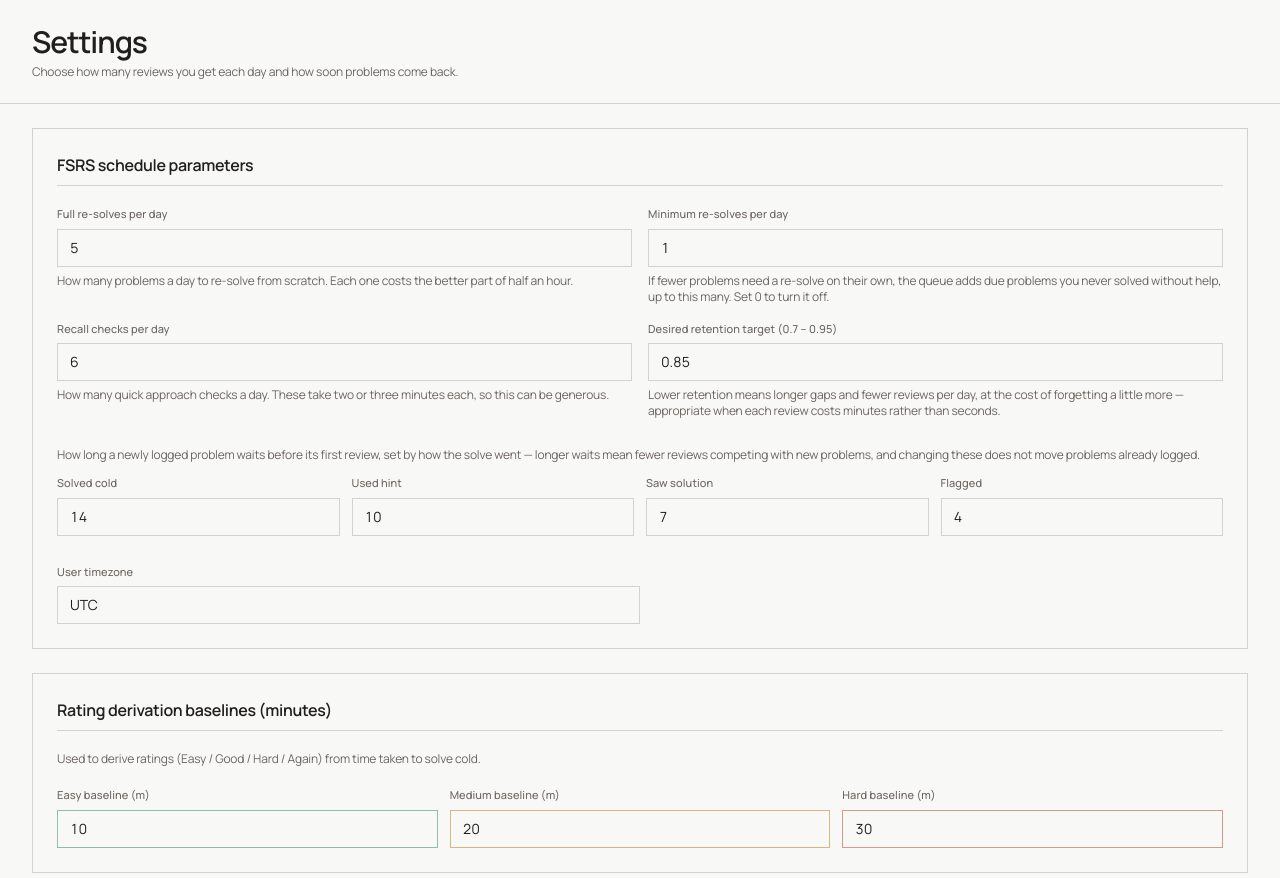
Test: SettingsClient › saves modified settings
The width and height of the screenshot is (1280, 878).
Step 1. Replace the text in the number field showing "5" below "Full re-solves per day" with "10" → (344, 248), box [57,228,632,266]
(page scrolled)
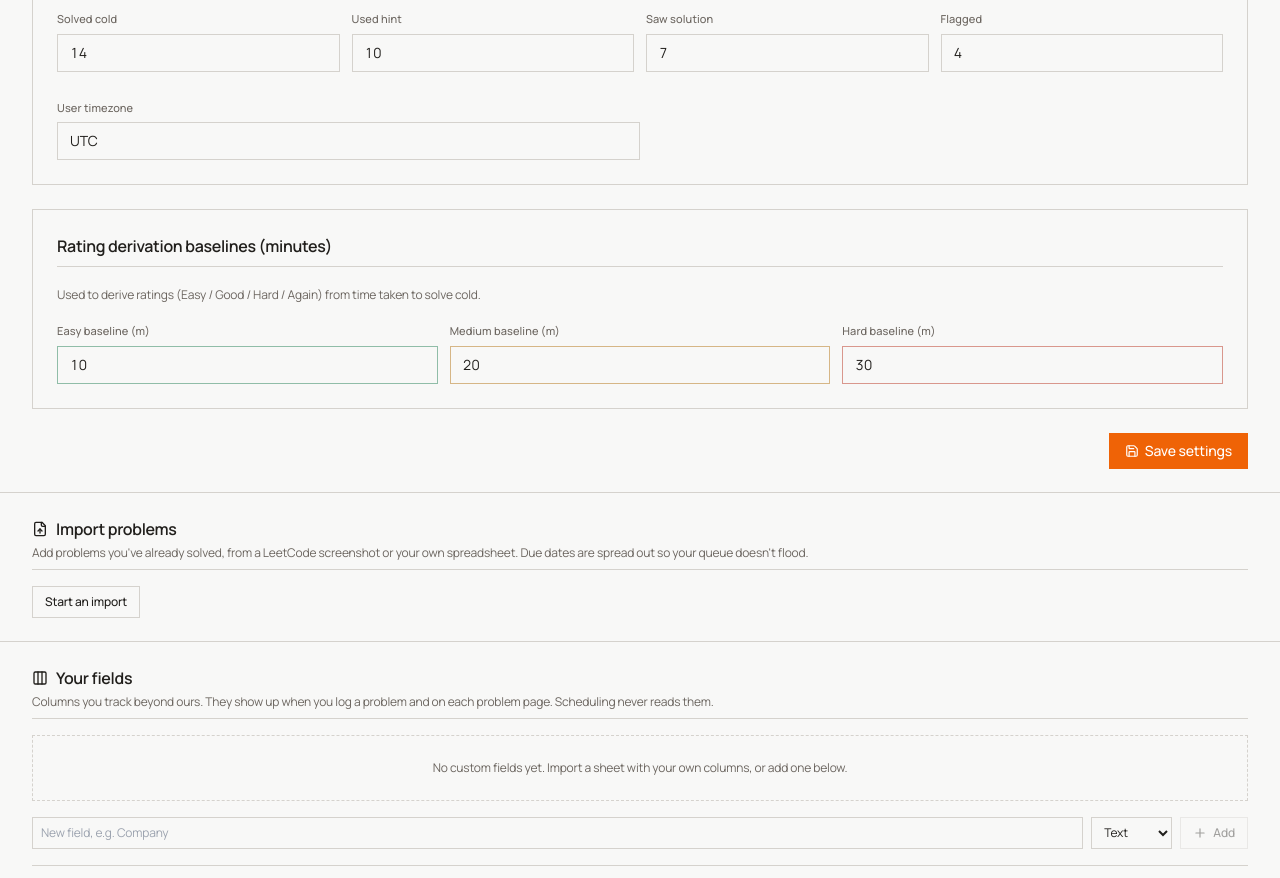
Step 2. Click the button "Save settings" → (1178, 450), box [1109,432,1248,468]
(page scrolled)
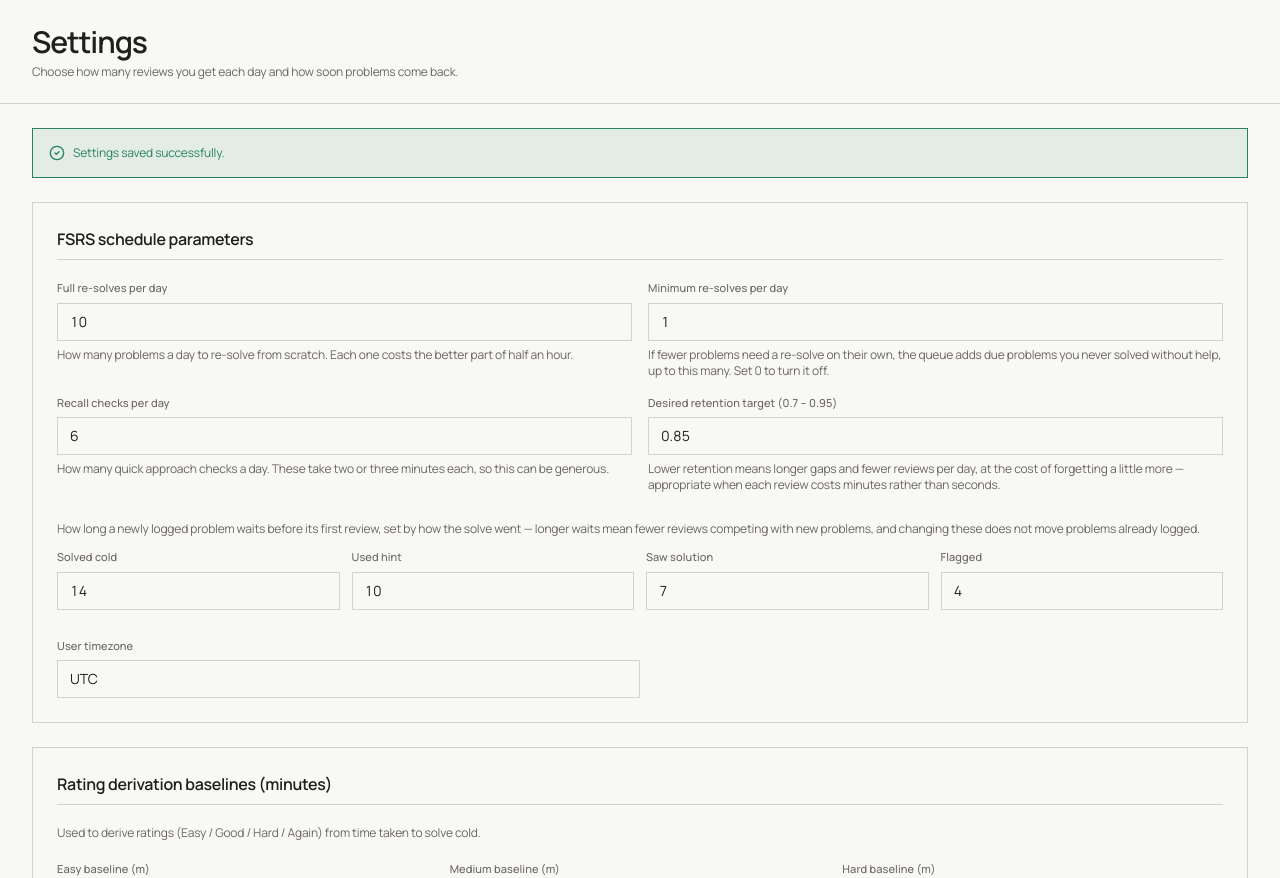
Now the text "Settings saved successfully." is shown, box [73,145,224,161]
